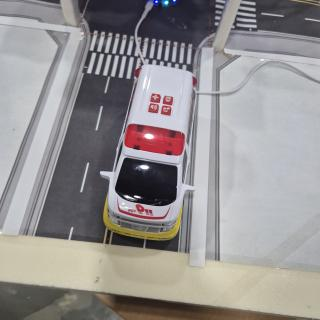Ambulance: (100, 65, 196, 241)
